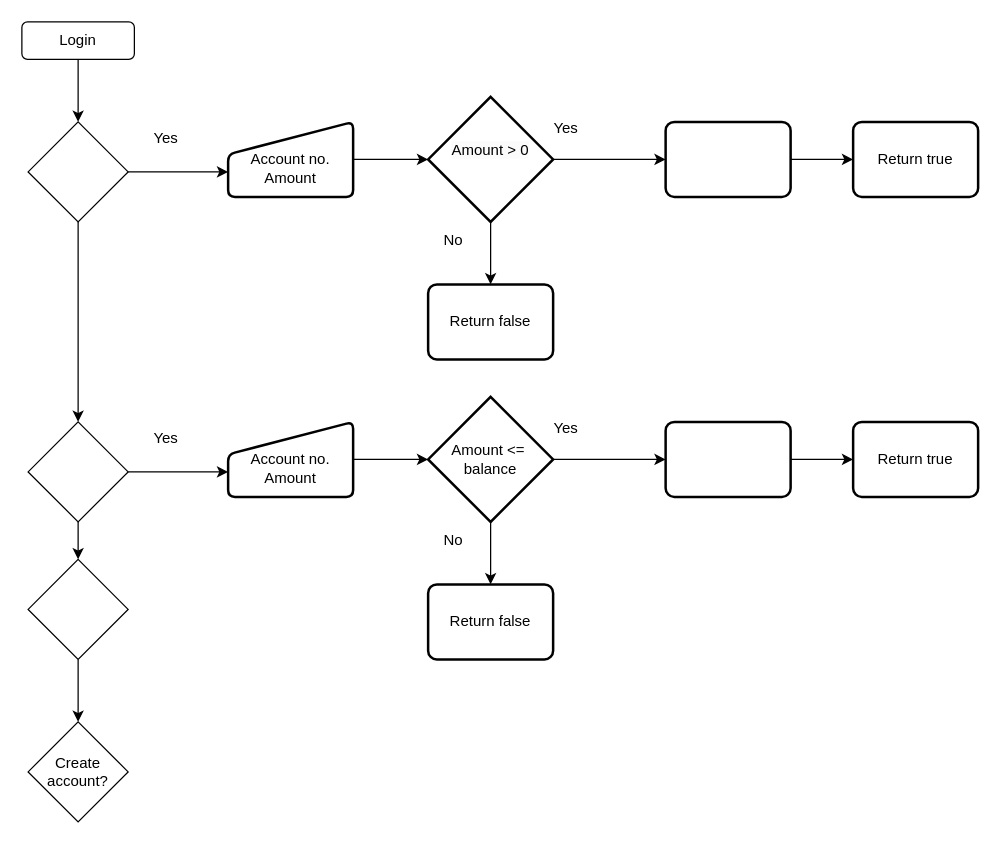
This 1001x844 diagram has some shape labels left out. The shapes that lost their labels are listed below. From the top down, each one's centre as x and y in pixels, then its label:
the point at 77,171: Deosit?
the point at 727,159: Balance + Amount
the point at 77,471: Withdrawal?
the point at 727,459: Balance - Amount
the point at 77,608: Balance?
